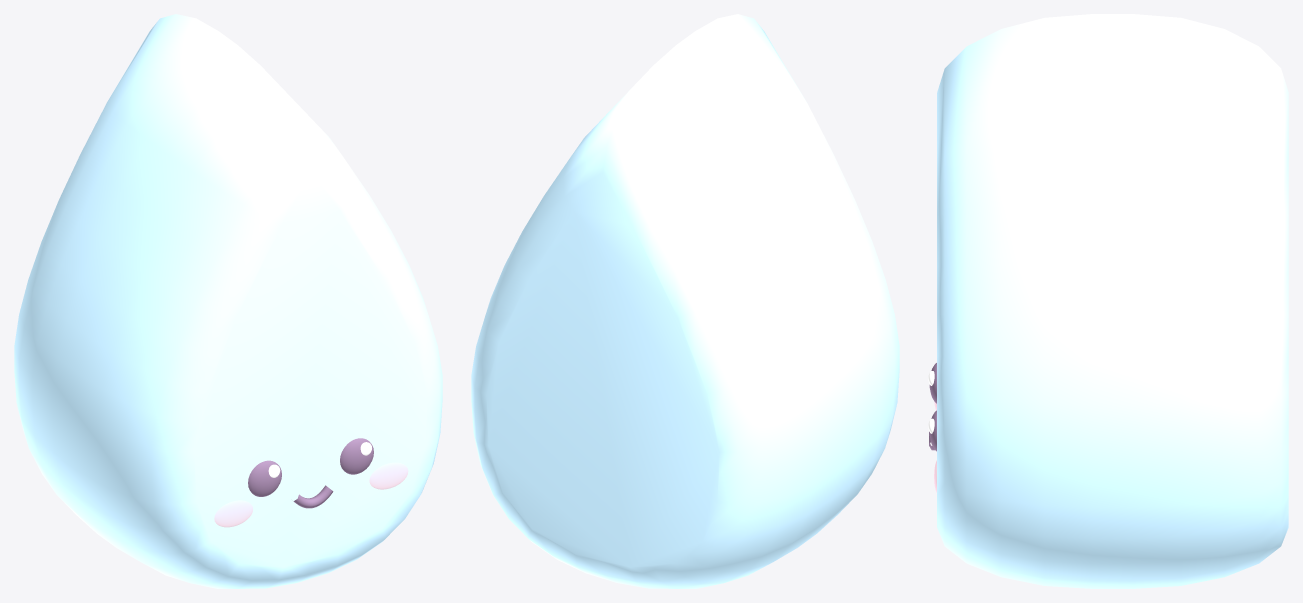
The model's file is squishy_raindrop.glb.
3 views of the same model, side by side, from view 1: azimuth 30°, elevation 25°; view 2: azimuth 150°, elevation 25°; view 3: azimuth 270°, elevation 25° (orthographic). The views are drawn at different scales.
Visible parts, largest first — view 1: raindrop; view 2: raindrop; view 3: raindrop.
Boxes of the visible parts, bbox=[...] form: raindrop: bbox=[14, 14, 442, 588]; raindrop: bbox=[471, 14, 899, 588]; raindrop: bbox=[928, 14, 1288, 588].
Bounding box in the file's own units: 0.674 × 1 × 0.5942.
